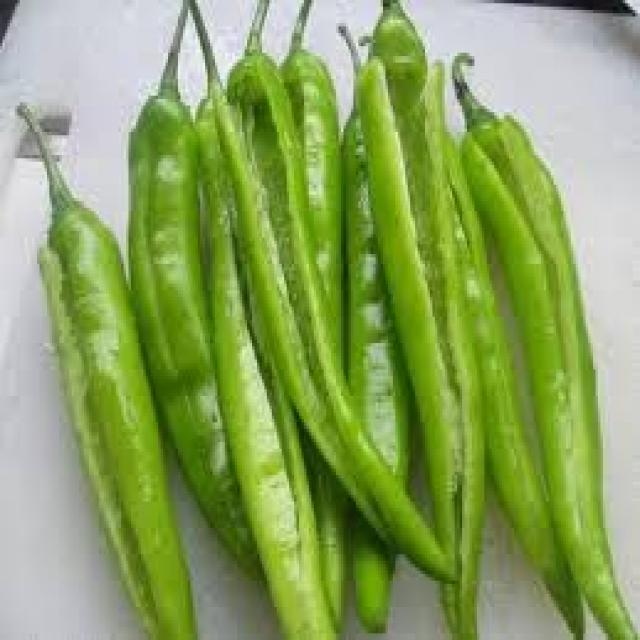green chilli: (455, 56, 638, 638), (21, 106, 195, 640), (131, 7, 252, 566)
